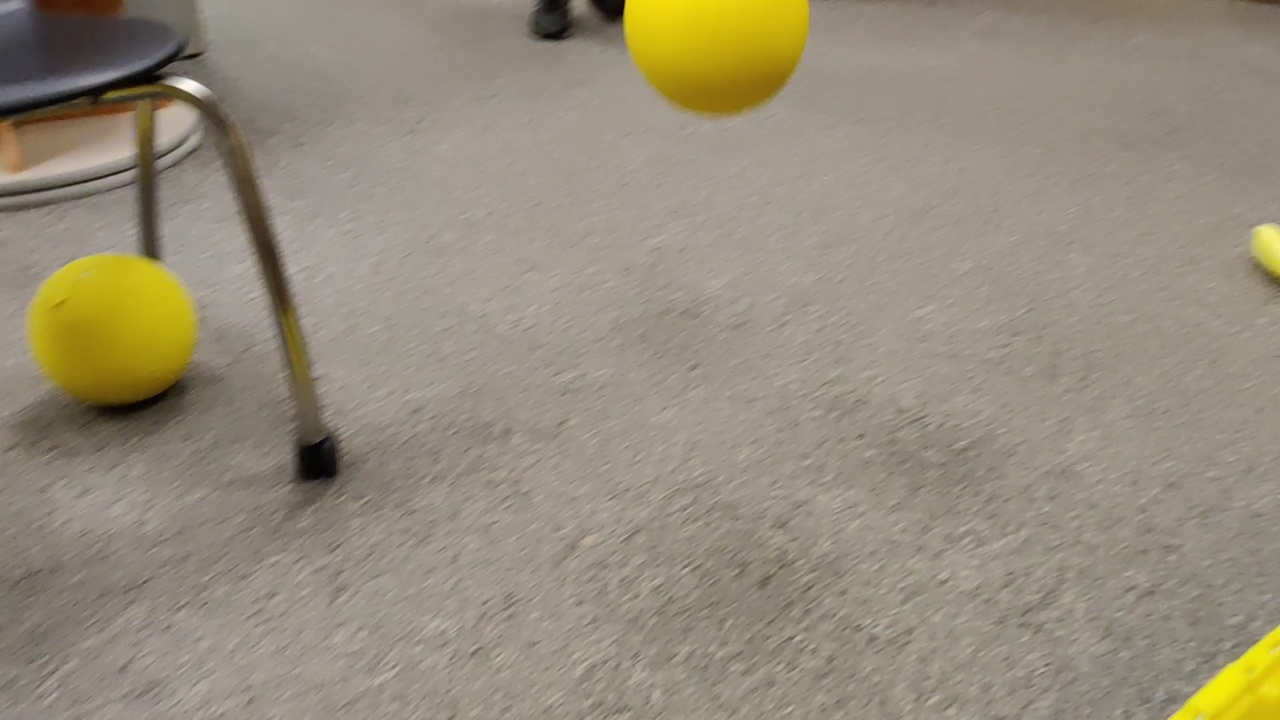Ball: (24, 252, 199, 404), (624, 1, 809, 117)
